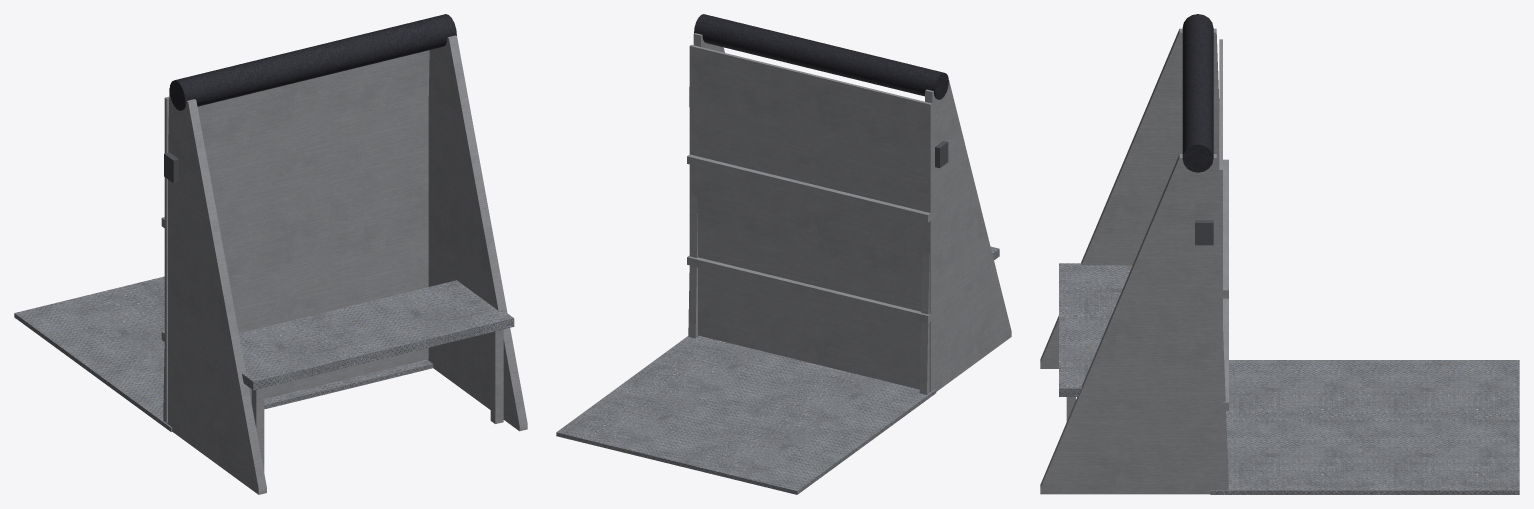
Rendered from barrier_crowd.gltf.
3 views of the same model, side by side, from view 1: azimuth 30°, elevation 25°; view 2: azimuth 150°, elevation 25°; view 3: azimuth 270°, elevation 25° (orthographic). The views are drawn at different scales.
Parts seen in each view (by area): view 1: barrier_crowd; view 2: barrier_crowd; view 3: barrier_crowd.
Boxes of the visible parts, x1,y1,x2,y2 form: barrier_crowd: (14, 14, 527, 494); barrier_crowd: (556, 14, 1011, 494); barrier_crowd: (1040, 14, 1519, 494).
Bounding box in the file's own units: 1.04 × 1.25 × 1.55.
Materials: 4 (4 with a texture image).
